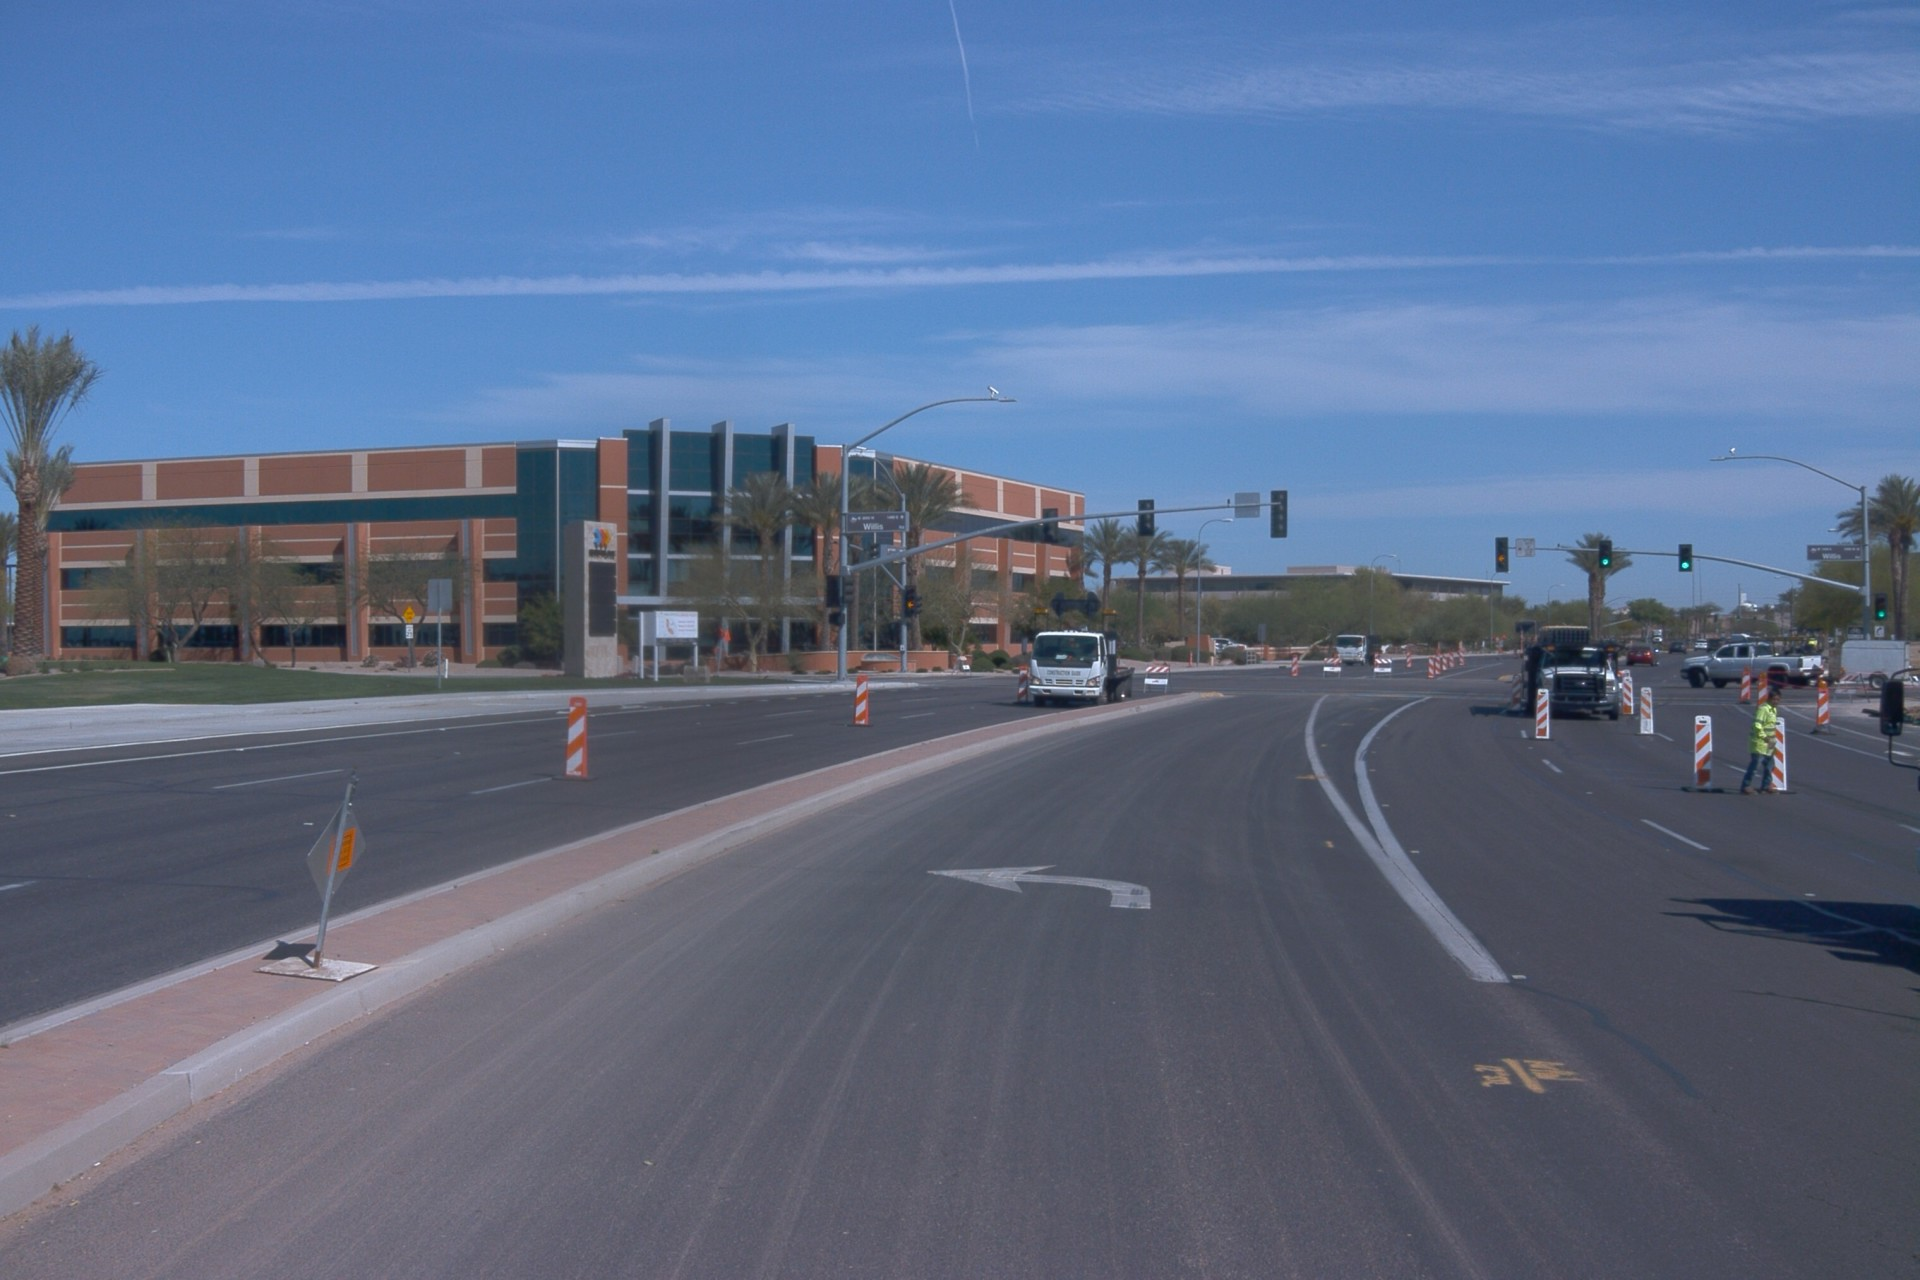TYPE_PEDESTRIAN: (1741, 687, 1785, 799)
TYPE_VEHICLE: (1514, 622, 1625, 728), (1023, 627, 1137, 711), (1675, 634, 1828, 693), (1870, 655, 1920, 792), (1834, 635, 1914, 700), (1334, 633, 1383, 669), (1623, 641, 1661, 668), (1209, 635, 1248, 653), (1704, 636, 1729, 655), (1667, 639, 1689, 657), (1691, 635, 1710, 653), (1650, 628, 1664, 645), (1514, 663, 1520, 684)
